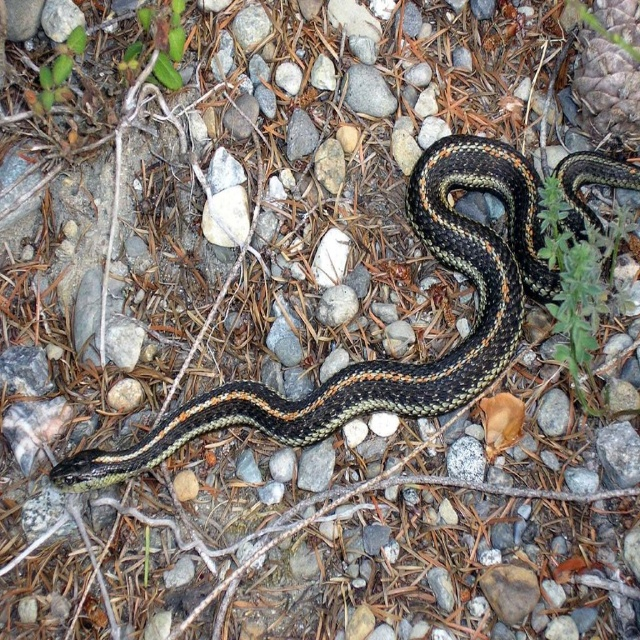Snake: (50, 135, 640, 493)
